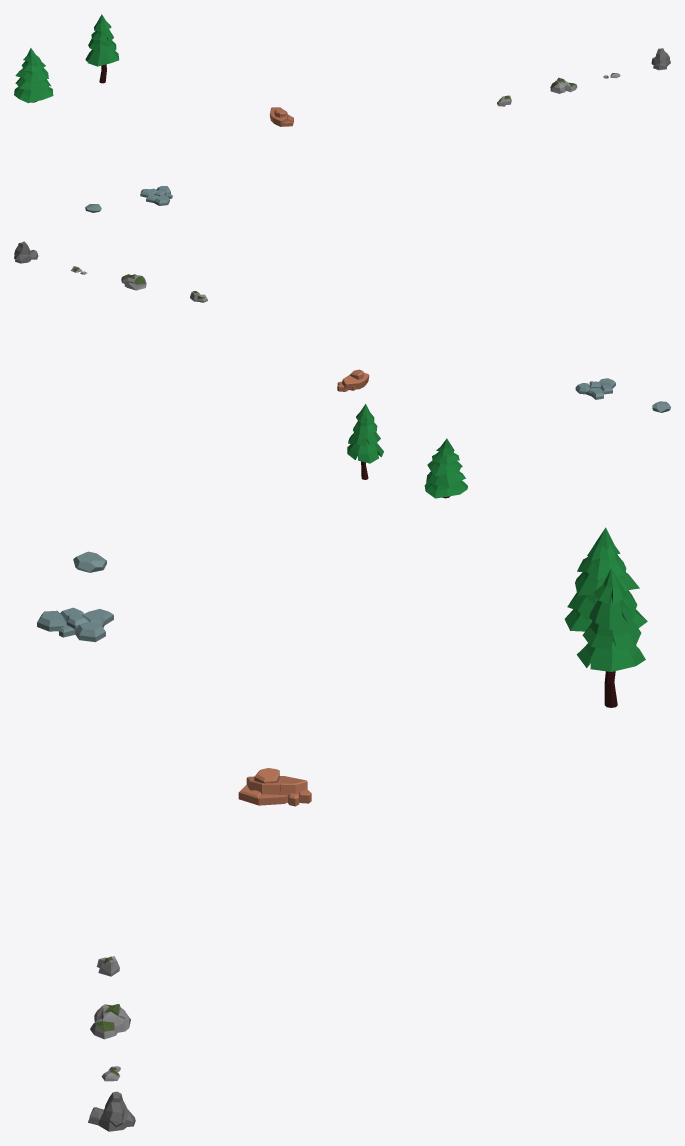
The model's file is nature-kit.glb.
3 renders of one model, top to bottom at view 1: azimuth 30°, elevation 25°; view 2: azimuth 150°, elevation 25°; view 3: azimuth 270°, elevation 25°, orthographic. The views are drawn at different scales.
Visible parts, largest first — view 1: conifer3_Cylinder.001, conifer5_Cylinder.004, Rock Type4 02 mesh.001, Rock Type1 01 mesh.001; view 2: conifer3_Cylinder.001, conifer5_Cylinder.004, Rock Type4 02 mesh.001, Rock Type1 01 mesh.001; view 3: conifer5_Cylinder.004, conifer3_Cylinder.001, Rock Type1 01 mesh.001, Rock Type4 02 mesh.001, stone_with_moss_7.001, stone_with_moss_3.001.
Part boxes in pixels (x1,y1,x2,y2): conifer3_Cylinder.001: [14, 48, 53, 103]; conifer5_Cylinder.004: [85, 14, 119, 83]; Rock Type4 02 mesh.001: [140, 186, 172, 205]; Rock Type1 01 mesh.001: [269, 107, 293, 126]; conifer3_Cylinder.001: [424, 438, 467, 498]; conifer5_Cylinder.004: [347, 404, 383, 479]; Rock Type4 02 mesh.001: [575, 378, 615, 399]; Rock Type1 01 mesh.001: [337, 369, 369, 391]; conifer5_Cylinder.004: [576, 568, 645, 707]; conifer3_Cylinder.001: [564, 527, 647, 631]; Rock Type1 01 mesh.001: [238, 768, 311, 806]; Rock Type4 02 mesh.001: [37, 607, 113, 642]; stone_with_moss_7.001: [88, 1091, 135, 1131]; stone_with_moss_3.001: [90, 1004, 130, 1039].
Size of the model in its own units: 131 by 14.53 by 58.76.
